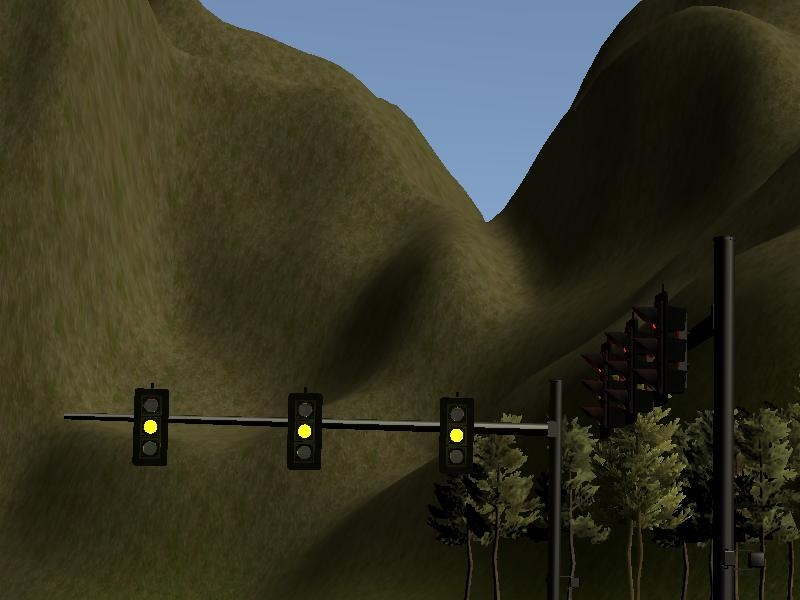YELLOW: (132, 388, 170, 467), (284, 391, 322, 470), (436, 394, 474, 473)
